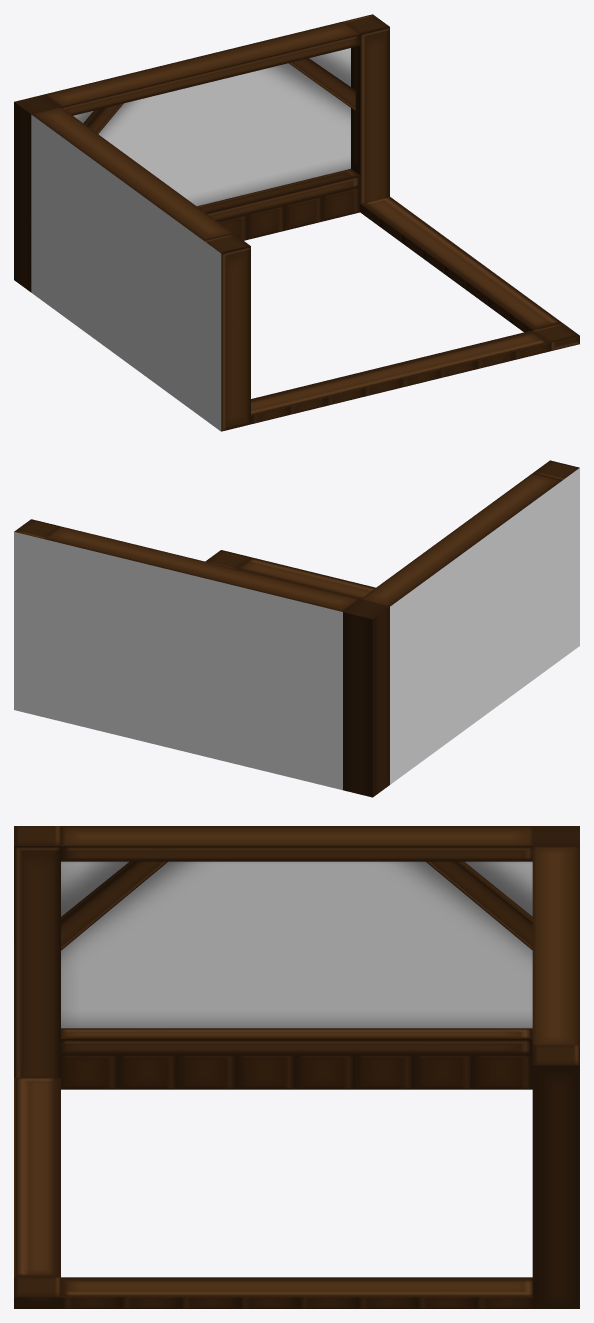
The model's file is StoreWall1stStepRoot.FBX.
3 views of the same model, one above another, from view 1: azimuth 30°, elevation 25°; view 2: azimuth 150°, elevation 25°; view 3: azimuth 270°, elevation 25° (orthographic). The views are drawn at different scales.
Parts seen in each view (by area): view 1: Object012; view 2: Object012; view 3: Object012.
Boxes of the visible parts, box(x1,y1,x2,y2) form: Object012: box(14, 14, 579, 431); Object012: box(14, 460, 579, 797); Object012: box(14, 826, 579, 1308).
Size of the model in its own units: 12 by 5.7 by 12.
